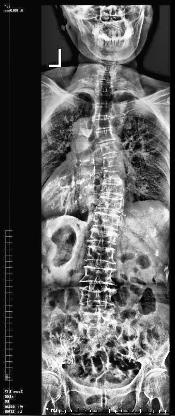Vertebrae: (80, 266, 118, 286), (79, 287, 115, 307), (78, 310, 112, 328), (83, 246, 116, 264), (92, 212, 120, 230), (87, 228, 118, 244), (96, 198, 124, 214), (100, 182, 126, 198), (101, 169, 125, 185), (90, 115, 114, 129), (93, 129, 117, 143), (97, 142, 121, 156), (100, 154, 124, 168), (91, 103, 114, 117), (94, 80, 114, 94), (93, 92, 113, 106)
